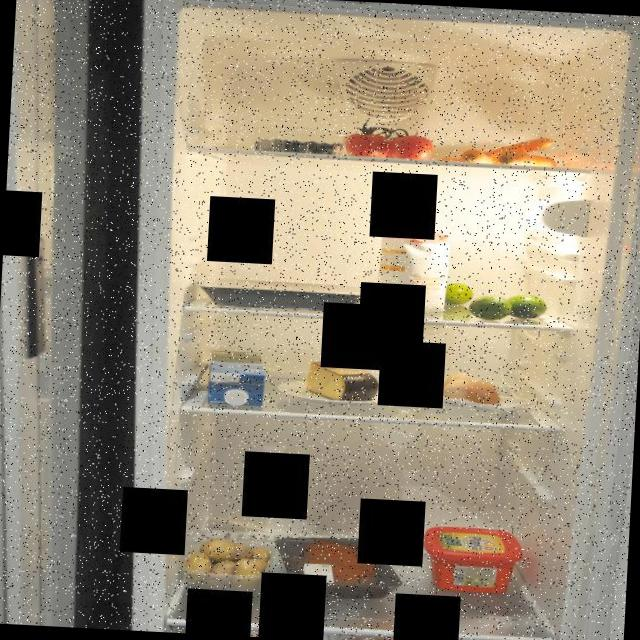Carne vacuno: (270, 532, 410, 606)
Huevos: (412, 368, 504, 412)
Leche: (207, 346, 270, 409)
Mantequilla: (420, 524, 529, 597)
Patata: (181, 536, 273, 594)
Queso: (298, 358, 380, 404)
Tomate: (342, 117, 438, 162)
Zanahoria: (435, 132, 563, 170)
